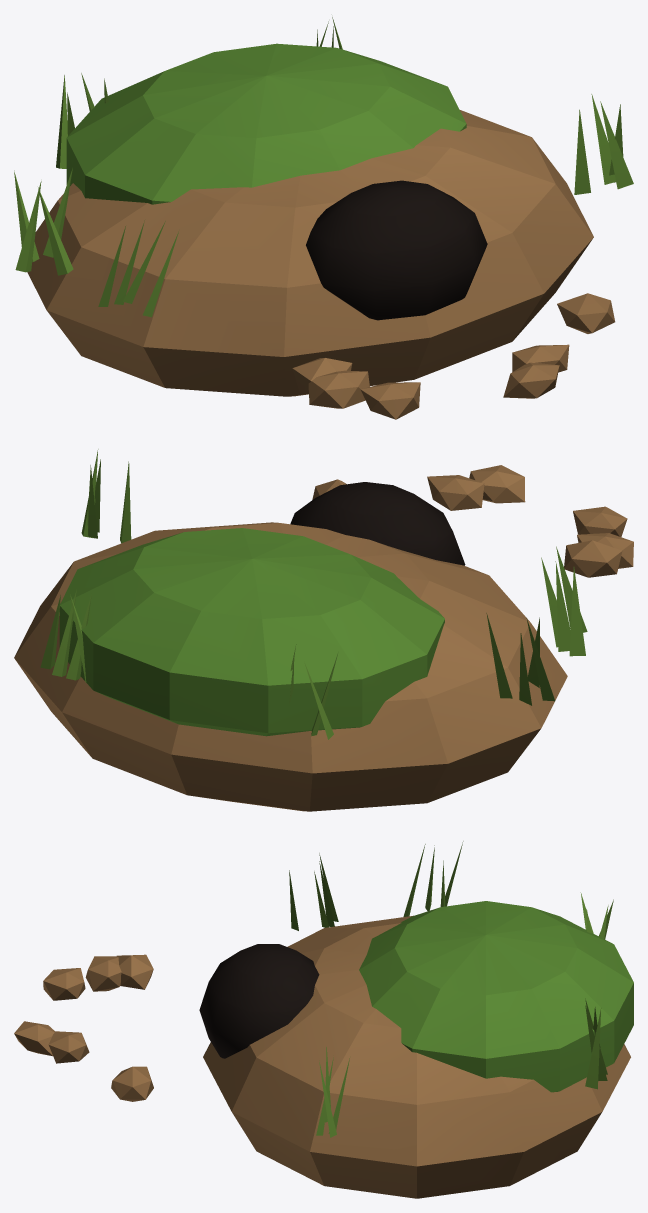
File: hare_burrow.glb
The picture shows the model from 3 angles, top to bottom: view 1: azimuth 30°, elevation 25°; view 2: azimuth 150°, elevation 25°; view 3: azimuth 270°, elevation 25°; orthographic projection. The views are drawn at different scales.
Parts seen in each view (by area): view 1: HareBurrow; view 2: HareBurrow; view 3: HareBurrow.
Part boxes in pixels (left/top/right/bottom): HareBurrow: left=14, top=17, right=633, bottom=419; HareBurrow: left=14, top=449, right=633, bottom=811; HareBurrow: left=14, top=841, right=633, bottom=1198.
Bounding box in the file's own units: 1.59 × 0.69 × 1.79.
